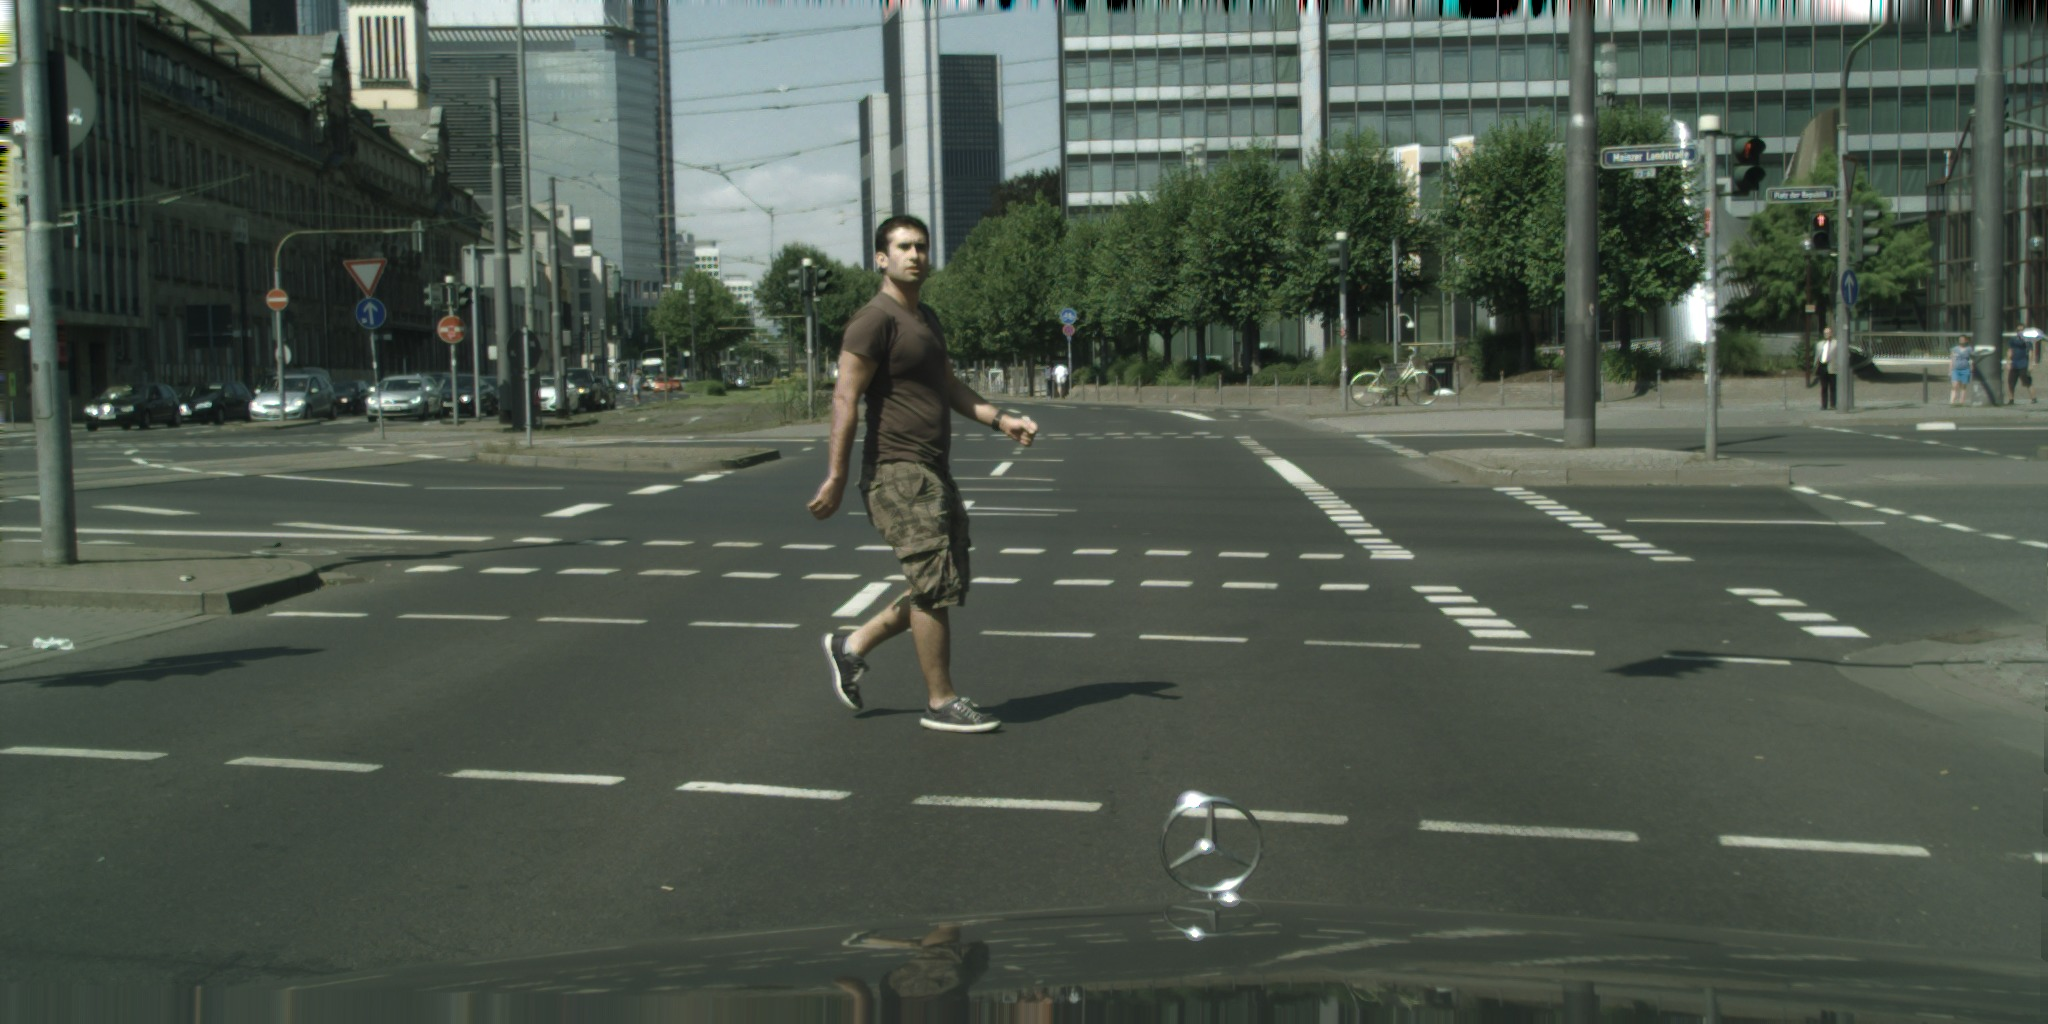bicycle: (1349, 345, 1440, 407)
car: (84, 381, 181, 431), (247, 374, 338, 423), (365, 375, 443, 422), (171, 381, 254, 425), (246, 367, 332, 405), (428, 374, 498, 417), (318, 379, 377, 415), (557, 367, 602, 412), (528, 376, 581, 414), (475, 376, 504, 412), (588, 375, 617, 409), (418, 371, 456, 393), (607, 380, 632, 393), (653, 377, 672, 392), (662, 379, 682, 390)
person: (809, 214, 1037, 734), (2006, 324, 2036, 404), (1814, 328, 1842, 411), (1948, 334, 1979, 405), (627, 368, 644, 405), (1053, 365, 1068, 397), (1045, 362, 1057, 399)
truck: (641, 357, 665, 389)
